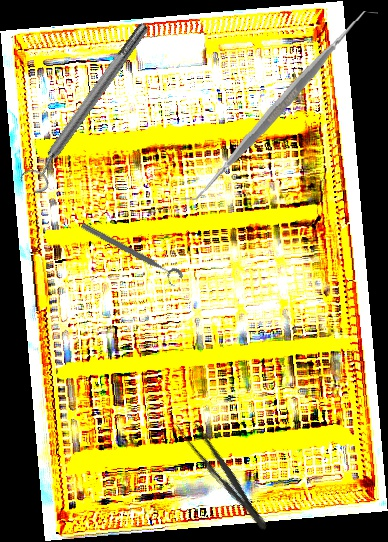Dressing Forceps: (172, 414, 275, 536)
Fixation Ring: (15, 16, 160, 198), (76, 219, 185, 290)
Spatula Surgical: (181, 5, 378, 207)
